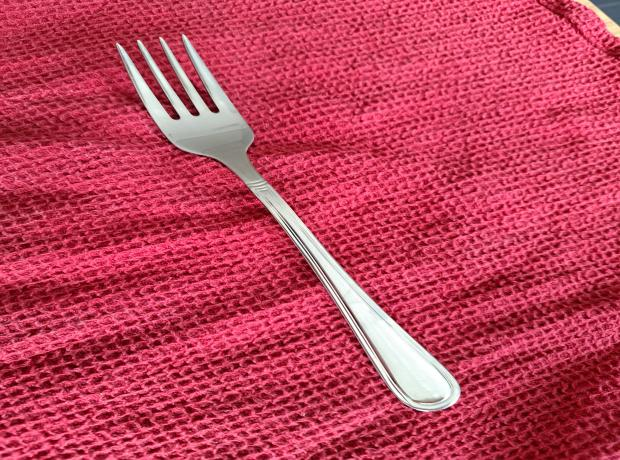metal: (113, 26, 460, 419)
